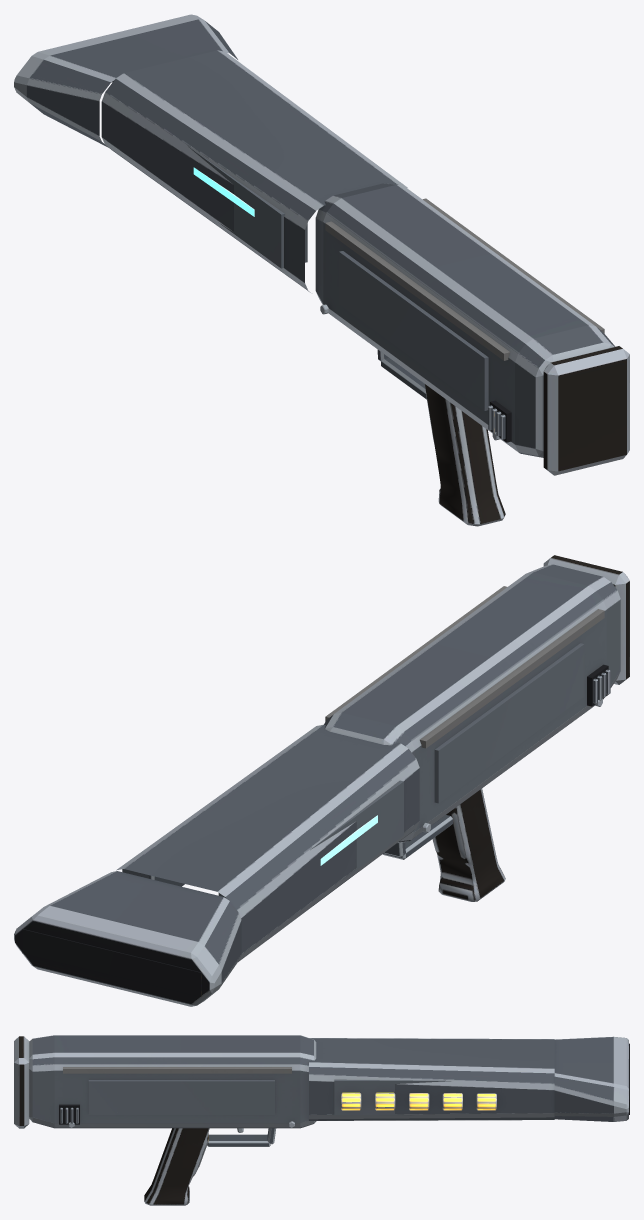
3 renders of one model, top to bottom at view 1: azimuth 30°, elevation 25°; view 2: azimuth 150°, elevation 25°; view 3: azimuth 270°, elevation 25°, orthographic. The views are drawn at different scales.
Parts seen in each view (by area): view 1: body; view 2: body; view 3: body.
Boxes of the visible parts, x1,y1,x2,y2 form: body: (14, 14, 629, 526); body: (14, 555, 629, 1006); body: (14, 1035, 629, 1205).
Bounding box in the file's own units: 0.175 × 0.203 × 0.727.
1 material, 1 textured.
